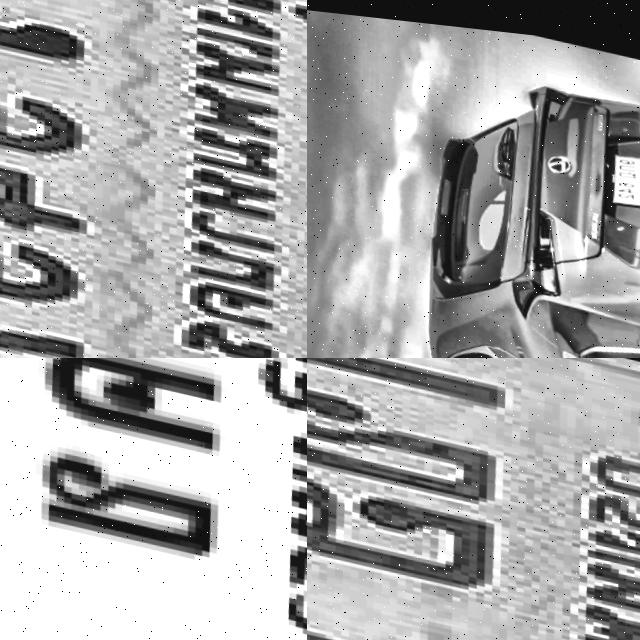license-plate: (0, 0, 307, 358), (307, 358, 640, 640), (0, 358, 307, 640), (596, 138, 640, 202)
